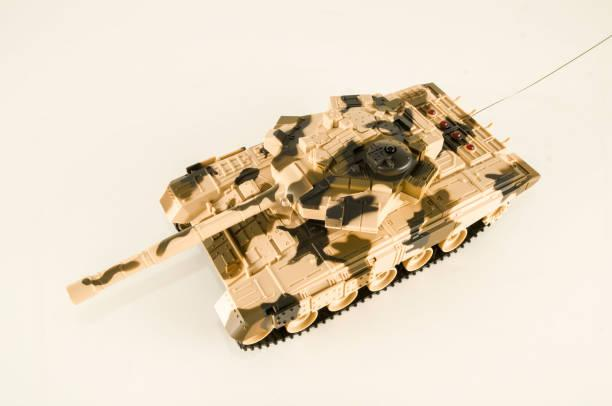tank: (50, 69, 535, 352)
